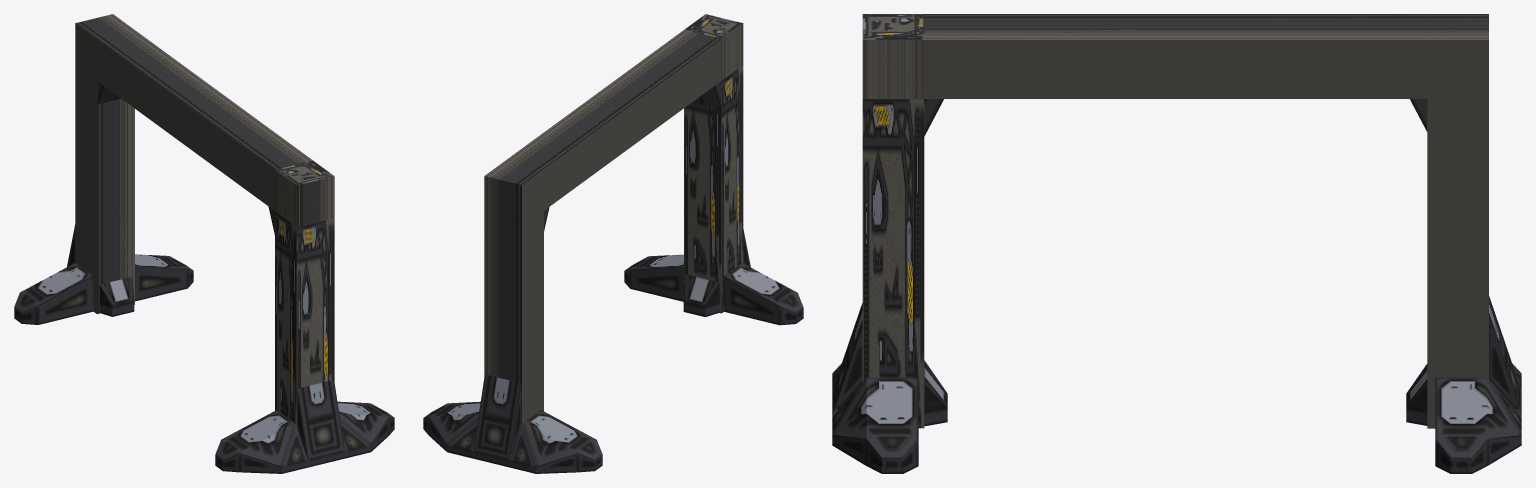
Rendered from road_arc_fbx.fbx.
3 views of the same model, side by side, from view 1: azimuth 30°, elevation 25°; view 2: azimuth 150°, elevation 25°; view 3: azimuth 270°, elevation 25° (orthographic). The views are drawn at different scales.
Parts seen in each view (by area): view 1: road_arc_cl, road_arc; view 2: road_arc_cl, road_arc; view 3: road_arc_cl, road_arc.
Part boxes in pixels (x1=…): road_arc_cl: x1=75, y1=14, x2=334, y2=426; road_arc: x1=14, y1=81, x2=394, y2=473; road_arc_cl: x1=484, y1=14, x2=743, y2=424; road_arc: x1=423, y1=81, x2=803, y2=473; road_arc_cl: x1=862, y1=14, x2=1488, y2=428; road_arc: x1=832, y1=99, x2=1521, y2=473.
Bounding box in the file's own units: 909 × 1391 × 2237.
Materials: 2 (2 with a texture image).
